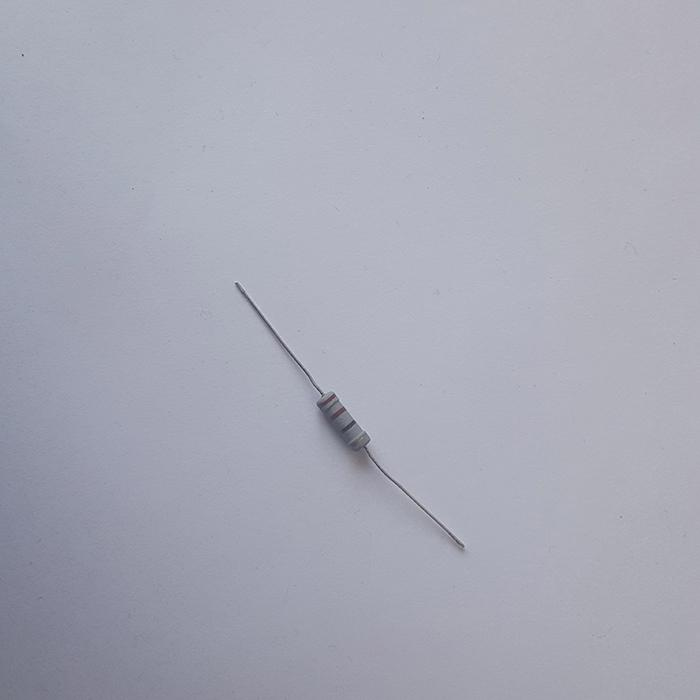resistor: (316, 390, 369, 451)
